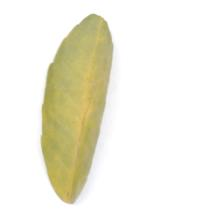greening: (43, 7, 116, 206)
